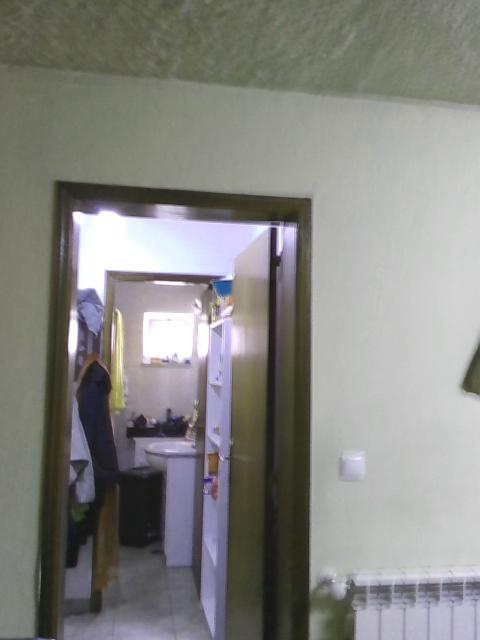open_door: (33, 177, 310, 638)
